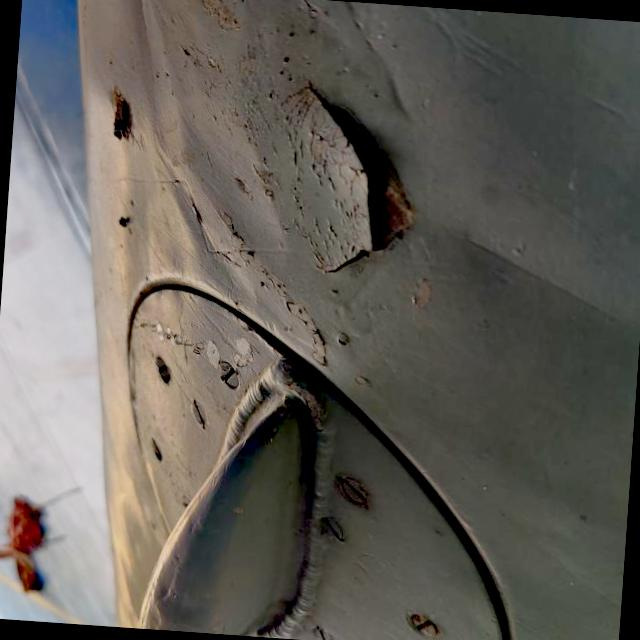crack: (72, 197, 302, 376)
